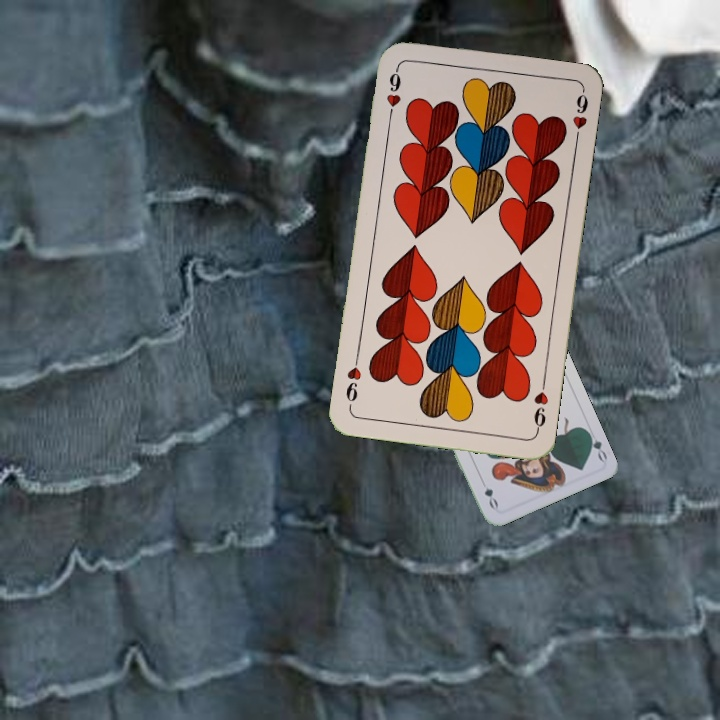GO: (582, 426, 610, 464)
H9: (529, 376, 551, 435), (382, 64, 404, 122)
